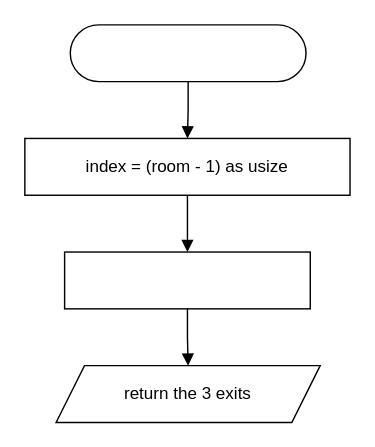
This 375x447 diagram has some shape labels left out. The shapes that lost their labels are listed below. From the top down, each one's box as (x1, y1, x2, y2) in pixels, then its label:
(69, 23, 306, 82): Start: exits(room)
(63, 251, 310, 309): look up CAVE[index]
